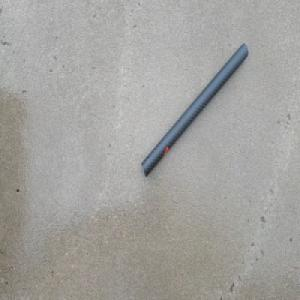LuggagePart: (140, 41, 248, 179)
